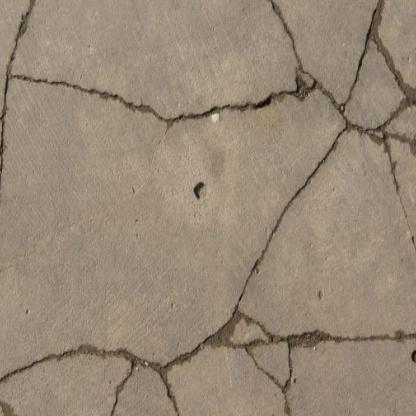Cracks: (0, 0, 416, 416), (190, 178, 209, 205)
